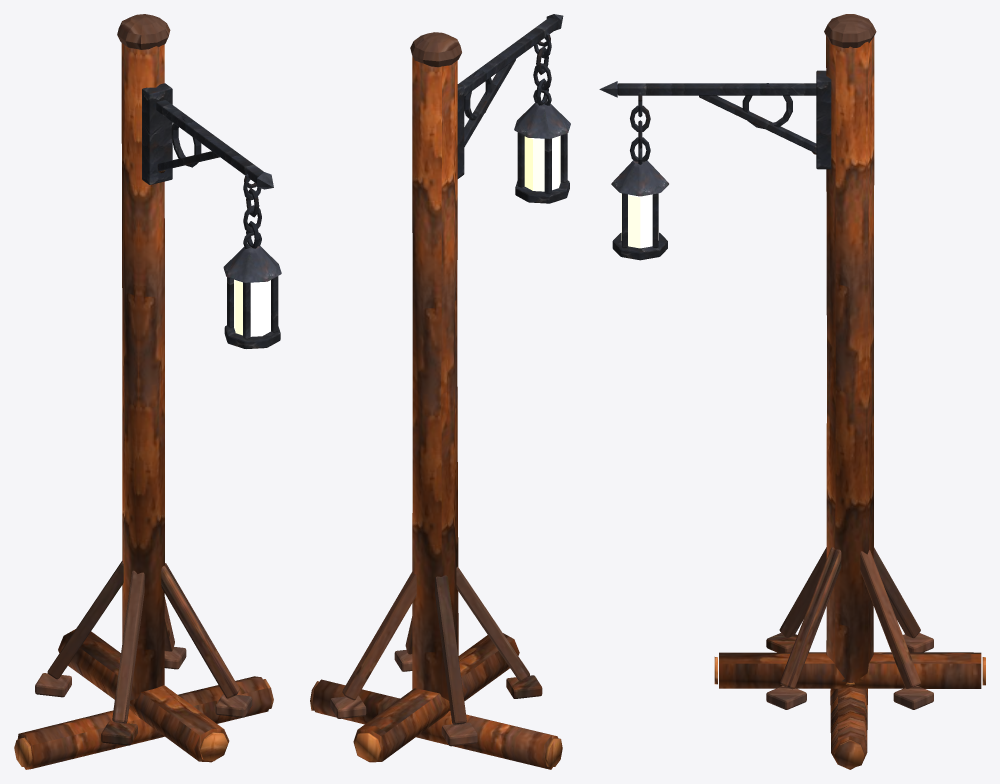
The model's file is mg_lantern_post.glb.
3 renders of one model, left to right at view 1: azimuth 30°, elevation 25°; view 2: azimuth 150°, elevation 25°; view 3: azimuth 270°, elevation 25°, orthographic. The views are drawn at different scales.
Parts seen in each view (by area): view 1: model; view 2: model; view 3: model.
Boxes of the visible parts, x1,y1,x2,y2 form: model: (14,14,281,769); model: (310,14,570,769); model: (599,14,985,769).
Size of the model in its own units: 0.724 by 2.05 by 1.03.
Materials: 12 (11 with a texture image).
